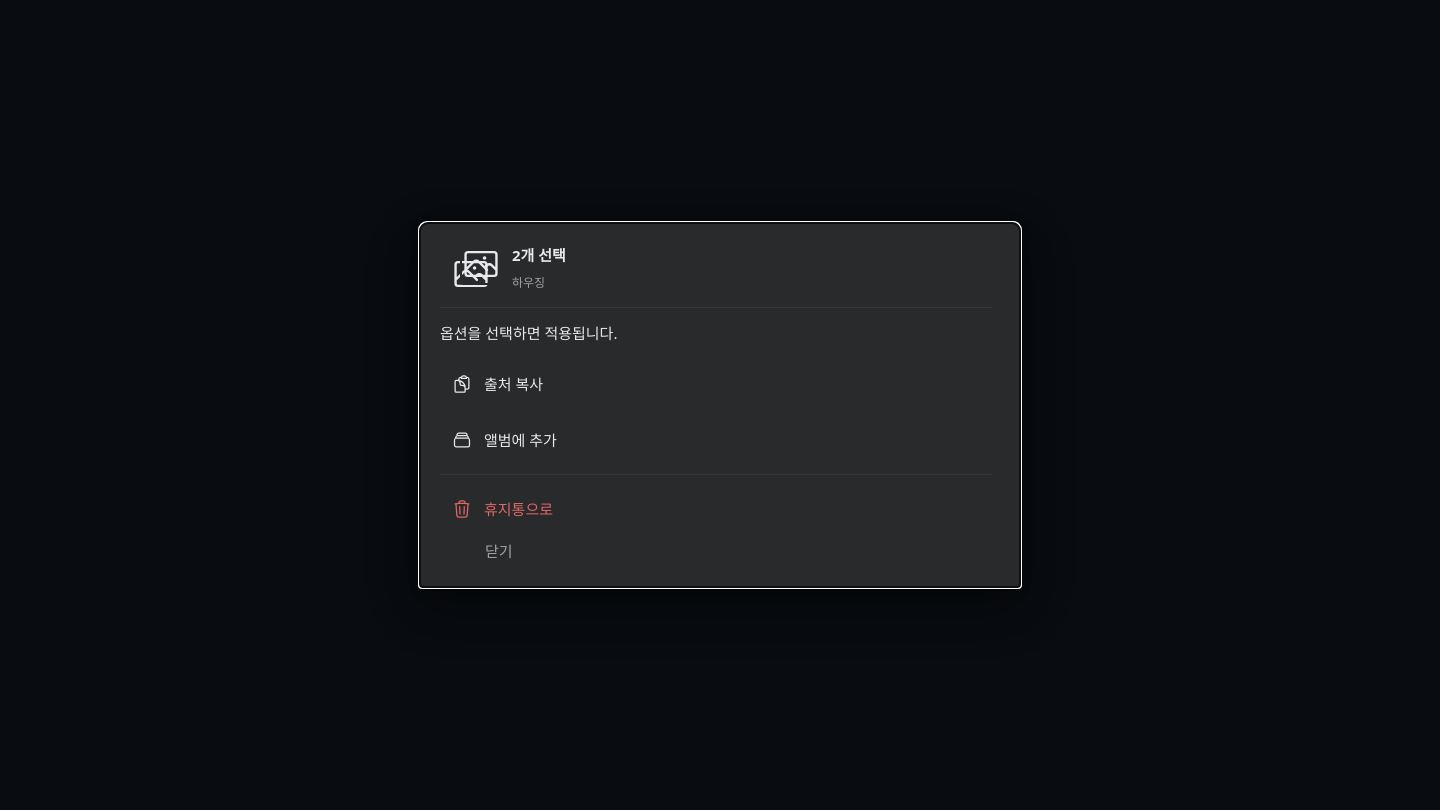
Test: copies the sources once and stays open to say so
This screenshot has width=1440, height=810.
Click the button "출처 복사". click: (514,384)
box: [440,358,992,410]
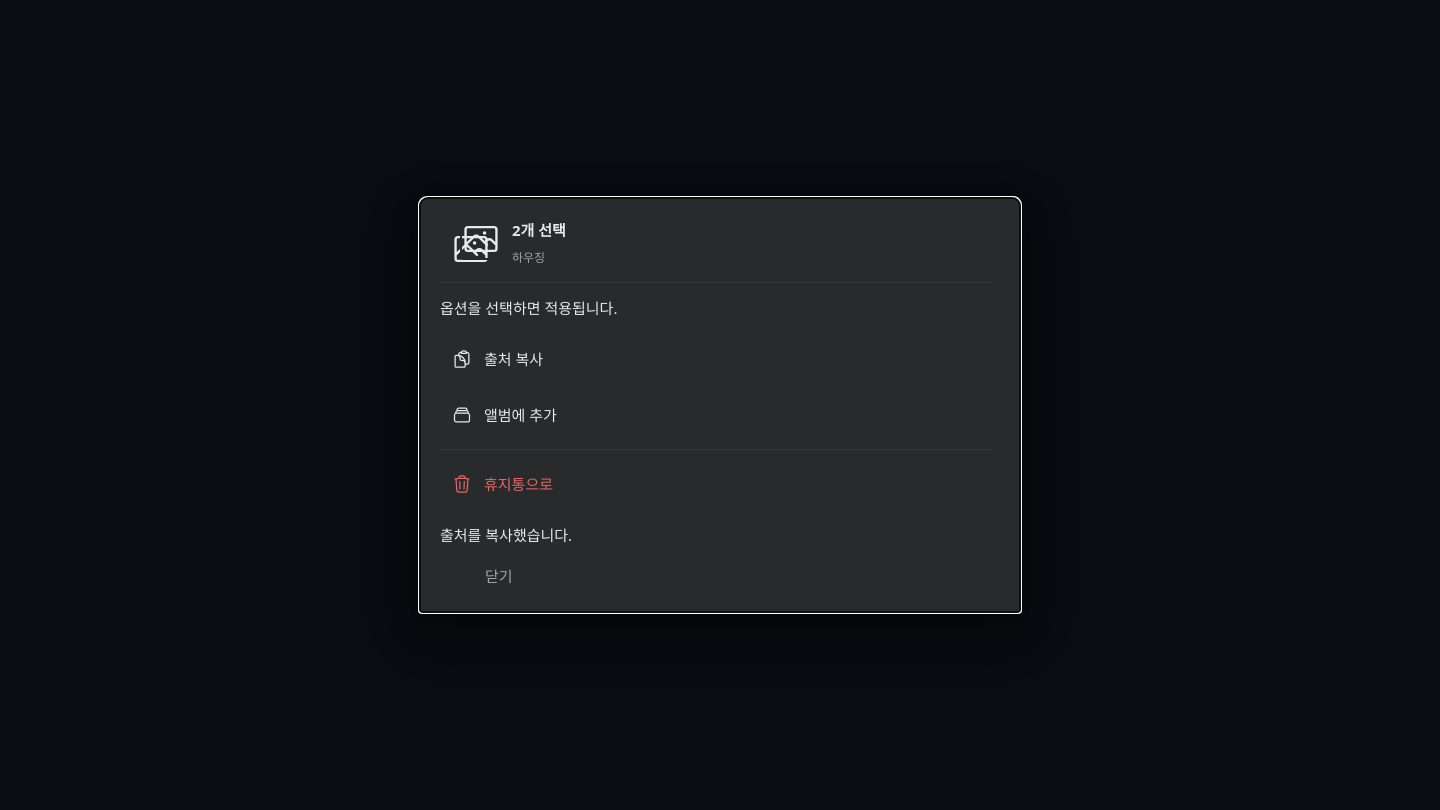
Expected: the message reads "출처를 복사했습니다.", [440,525,572,545]
